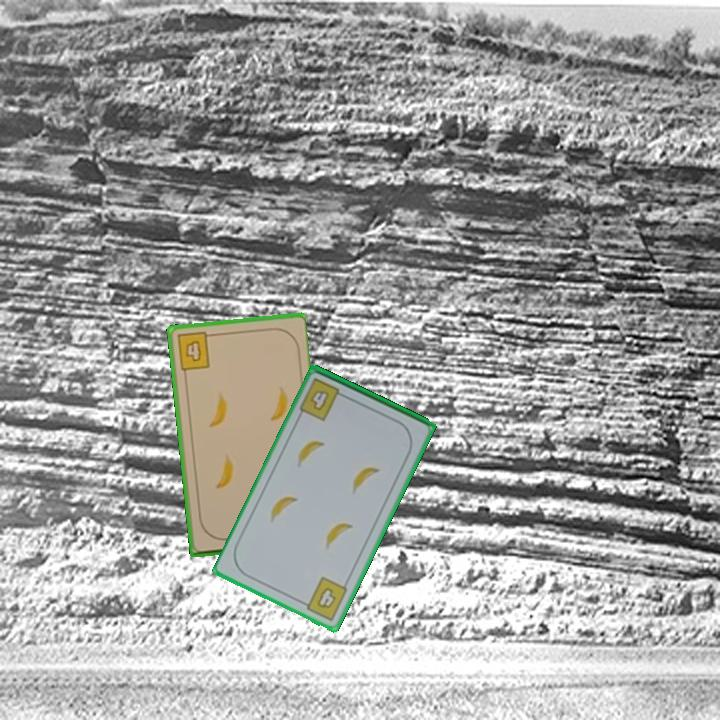4b: (295, 374, 350, 424), (297, 573, 350, 624), (173, 329, 216, 373)
